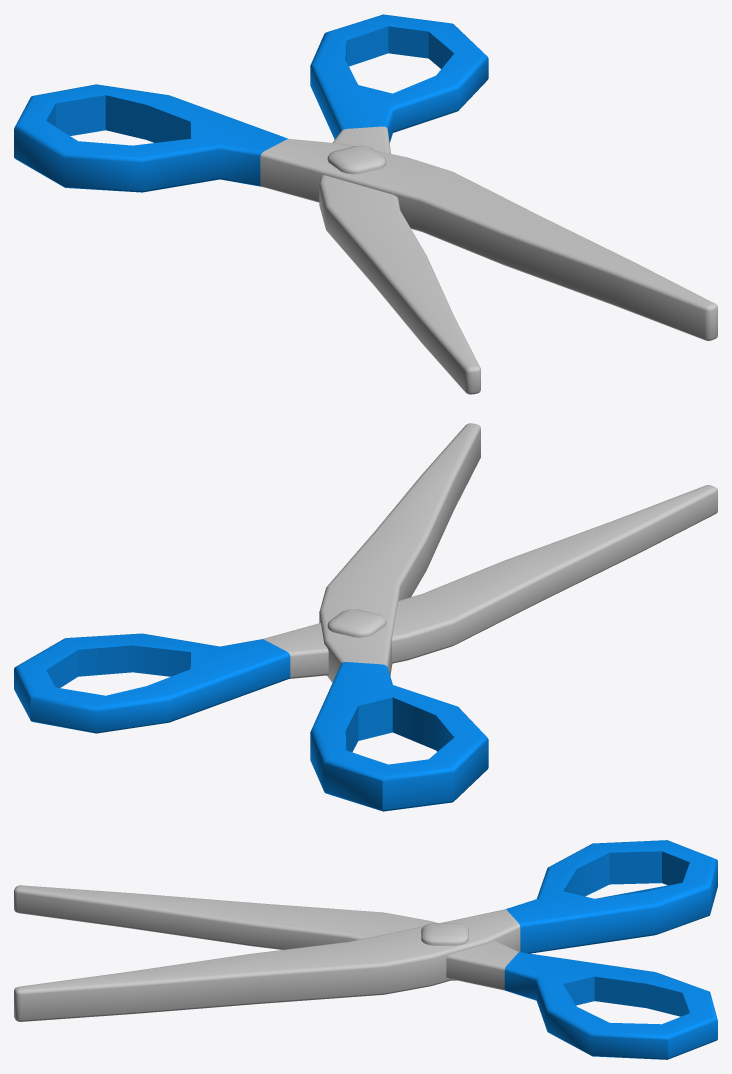
Rendered from Cutter_2.fbx.
3 views of the same model, one above another, from view 1: azimuth 30°, elevation 25°; view 2: azimuth 150°, elevation 25°; view 3: azimuth 270°, elevation 25° (orthographic). The views are drawn at different scales.
Parts seen in each view (by area): view 1: Cutter_2; view 2: Cutter_2; view 3: Cutter_2.
Part boxes in pixels (x1=…): Cutter_2: x1=14, y1=14, x2=717, y2=394; Cutter_2: x1=14, y1=423, x2=717, y2=811; Cutter_2: x1=14, y1=840, x2=717, y2=1059.
Bounding box in the file's own units: 0.1267 × 0.0133 × 0.1935.
